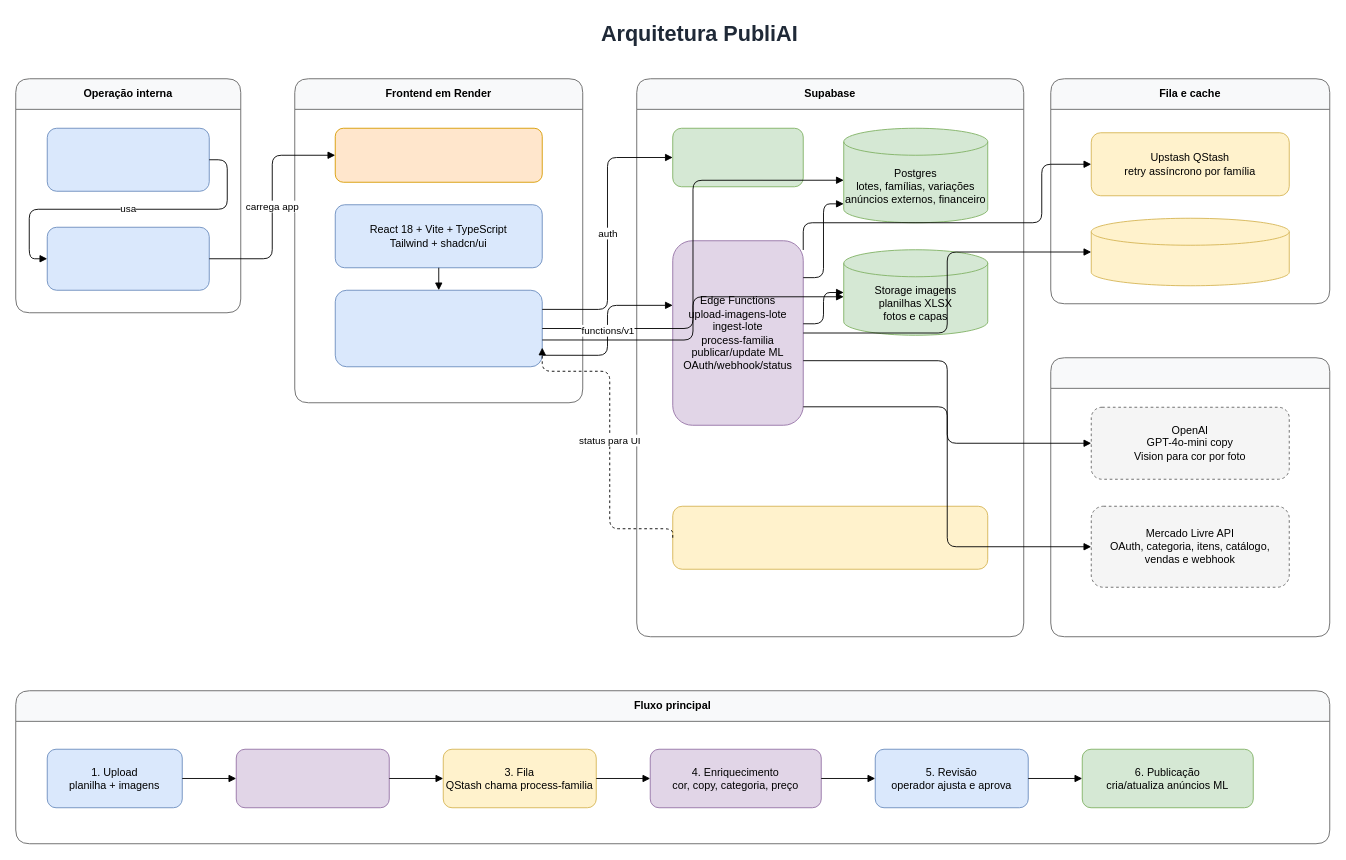
The diagram is 1346 pixels wide and 860 high, and some of its shapes have lost their labels. The shapes that lost their labels are listed below. From the top down, each one's box as (x1, y1, x2, y2) in pixels, then its label:
(46, 127, 209, 191): Operador planilhas, imagens e revisão
(334, 127, 542, 182): Render Static Site pnpm build -> dist
(672, 127, 803, 187): Auth sessão, usuário, JWT
(46, 226, 209, 290): Navegador HashRouter + sessão Supabase
(1090, 217, 1289, 286): Upstash Redis cache de cor, OAuth state e concorrência
(334, 289, 542, 367): Fluxos UI Novo lote, Progresso, Revisão, Publicados, Faturamento
(1050, 357, 1330, 637): Integrações externas
(672, 505, 988, 569): Realtime/queries status de lote e famílias
(235, 748, 389, 808): 2. Ingestão parse XLSX, famílias e variações
